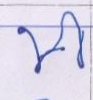i_matra: (63, 10, 88, 70)
